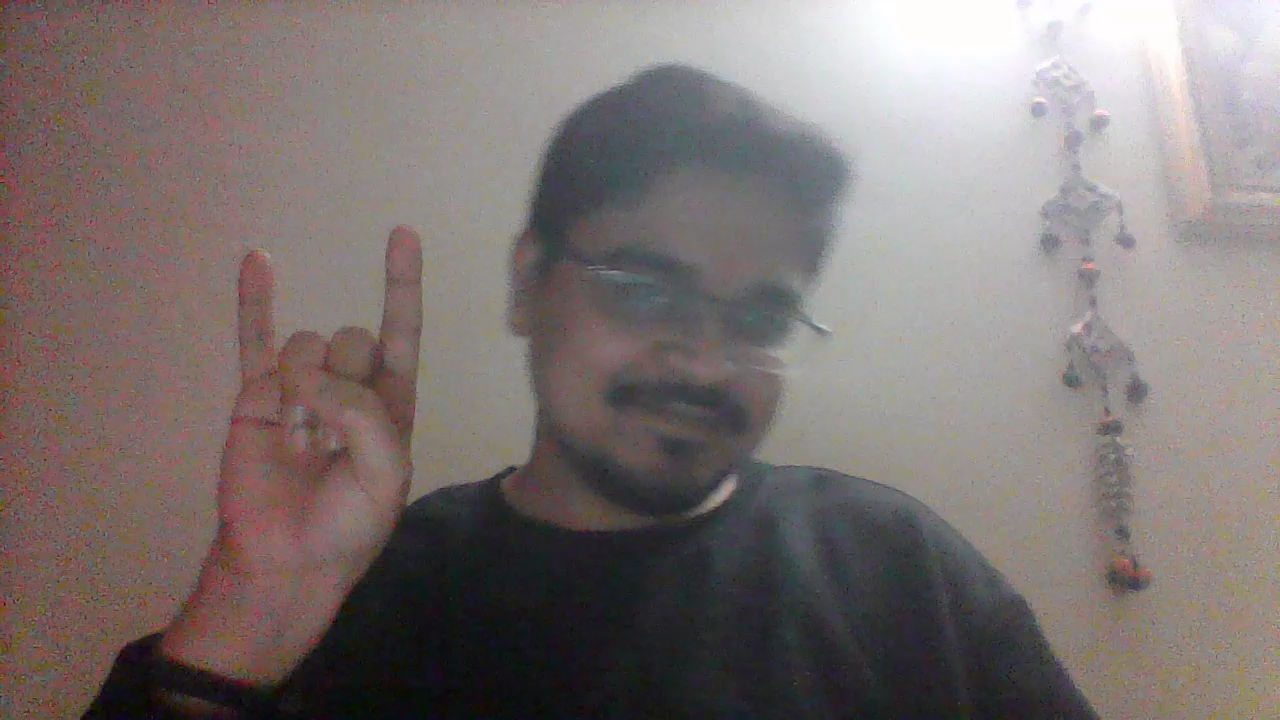ILoveYou: (207, 226, 423, 626)
